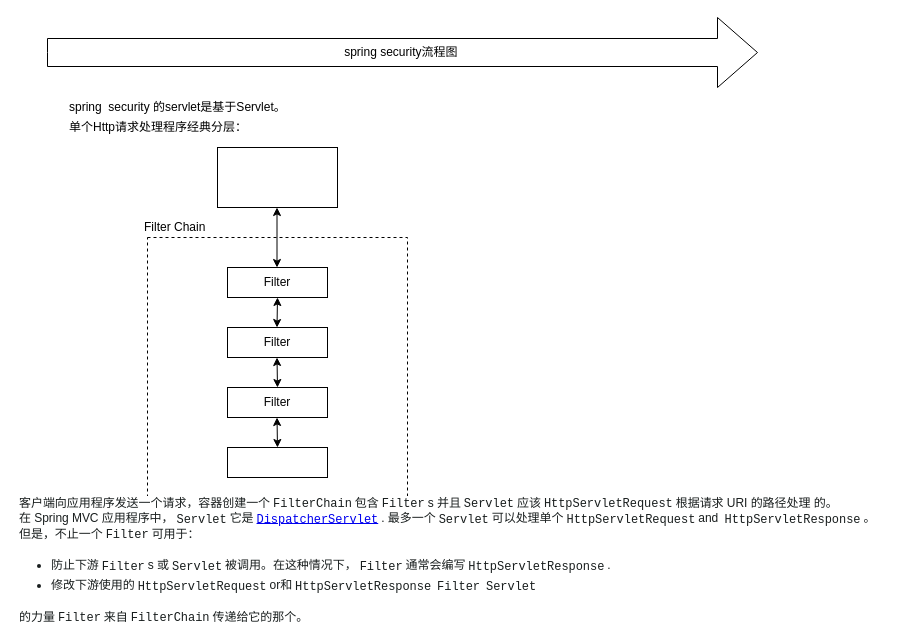
The diagram is 904 pixels wide and 642 high, and some of its shapes have lost their labels. Each missing label, with the centre of its shape:
Client: point 277,177
Servlet: point 277,462
